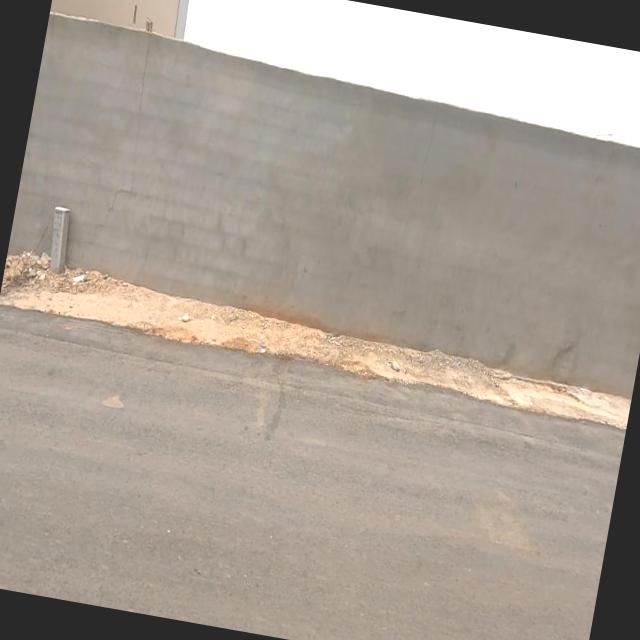debris: (0, 202, 75, 322), (37, 222, 110, 324), (150, 282, 218, 358)
